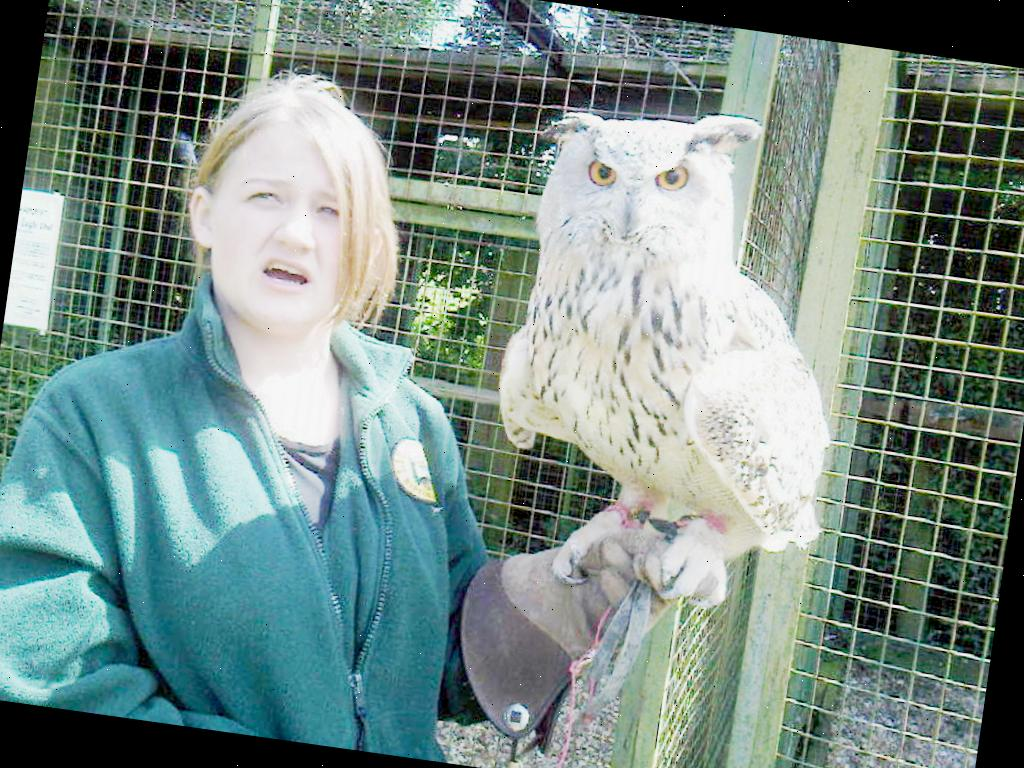Owl: (462, 92, 880, 633)
